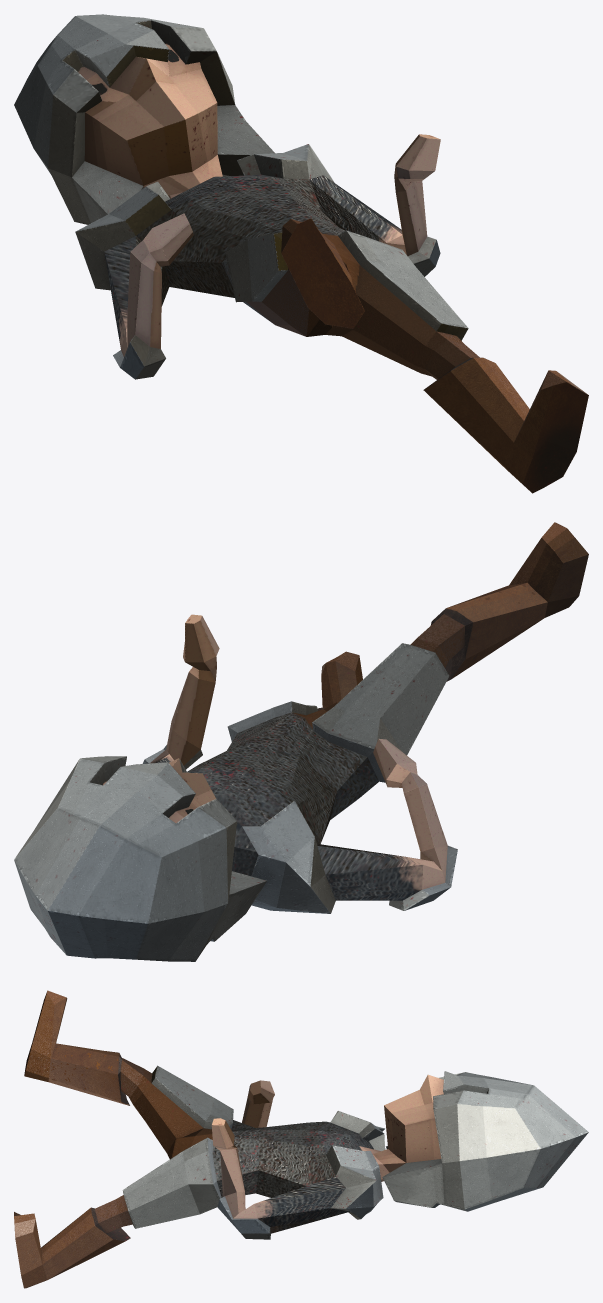
Rendered from Walk_Soldier_1.obj.
3 renders of one model, top to bottom at view 1: azimuth 30°, elevation 25°; view 2: azimuth 150°, elevation 25°; view 3: azimuth 270°, elevation 25°, orthographic. The views are drawn at different scales.
Visible parts, largest first — view 1: Soldado_LowPolySTD; view 2: Soldado_LowPolySTD; view 3: Soldado_LowPolySTD.
Part boxes in pixels (x1,y1,x2,y2): Soldado_LowPolySTD: (14,14,588,493); Soldado_LowPolySTD: (14,522,588,961); Soldado_LowPolySTD: (14,990,588,1288).
Bounding box in the file's own units: 0.6913 × 0.6787 × 1.59.
